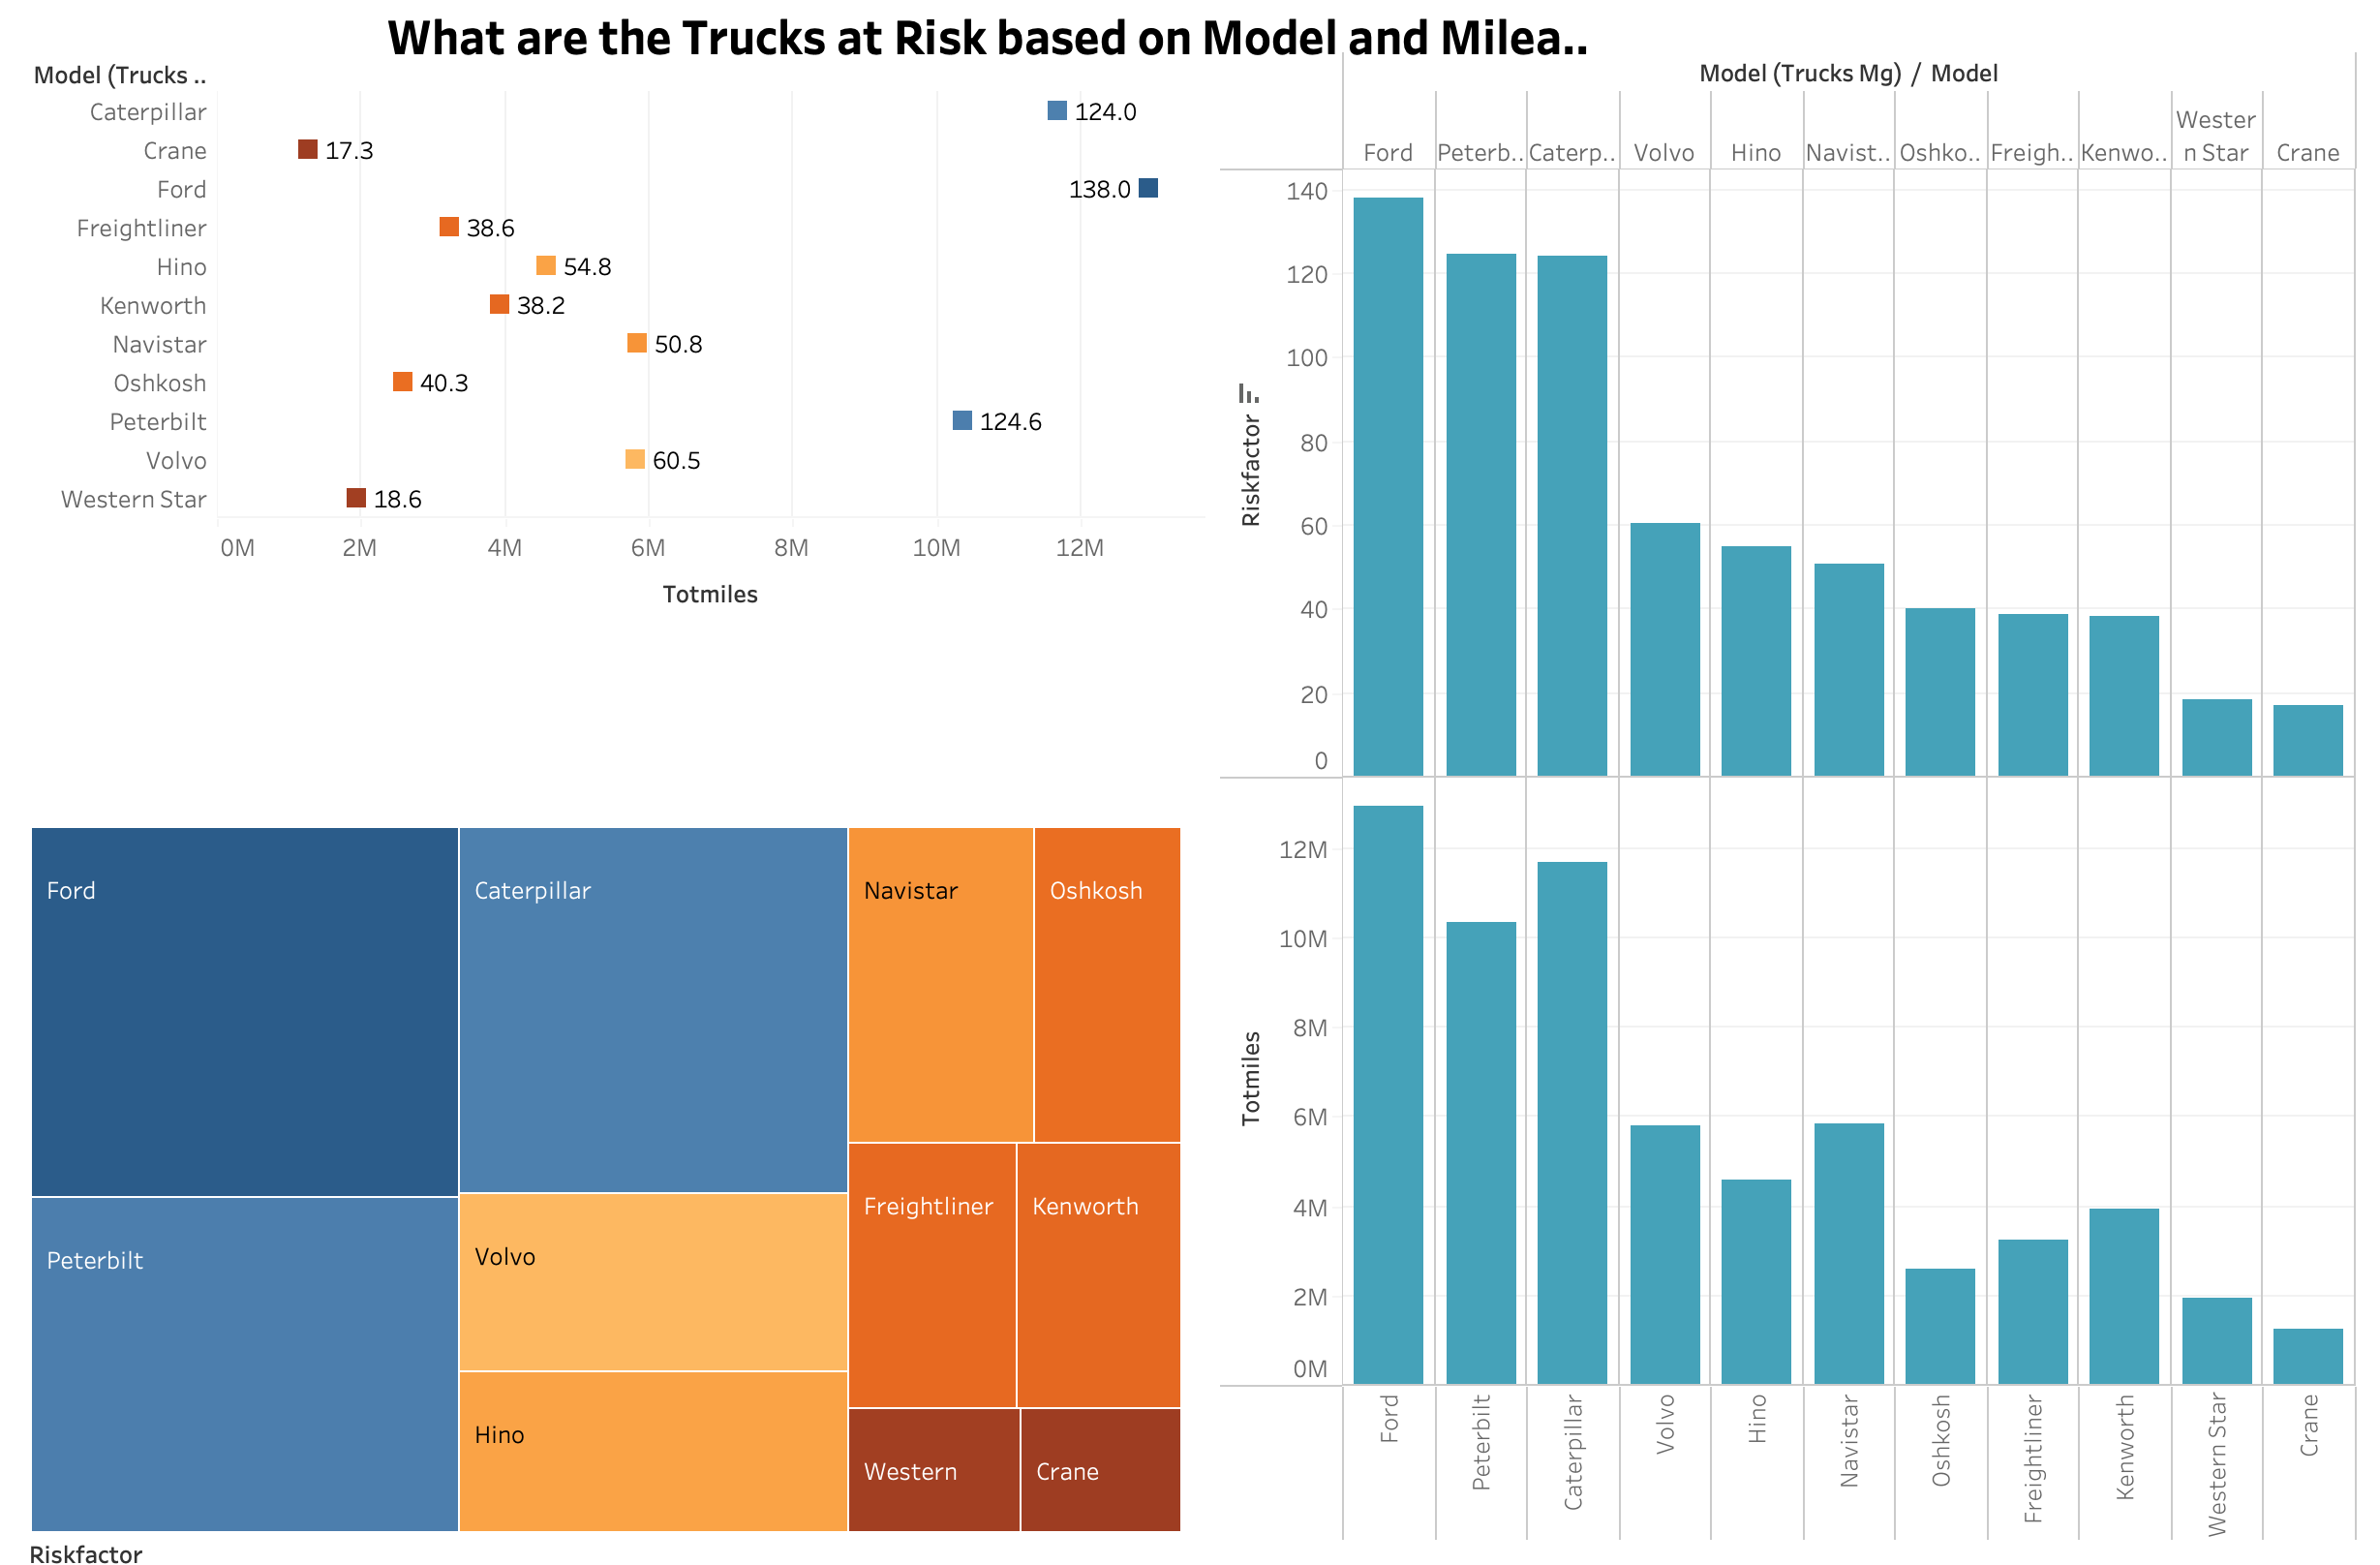

This screenshot's page, from the dashboard's own definition file:
{"tool":"tableau","page":{"name":"Dashboard 2","canvas":[1000,1000],"units":"permille","ordinal":1},"visuals":[{"type":"worksheet","title":"Trucks at risk based on model and miles travelled ","mark":"Square","rows":["model (trucks_mg)"],"cols":["totmiles"],"box":[4.8,9.4,495.1,490.6]},{"type":"worksheet","title":"Trucks at risk based on event parameters","mark":"Automatic","rows":["event","riskfactor"],"cols":["truckid (trucks_mg)"],"box":[500,9.4,495.2,490.6]},{"type":"worksheet","title":"Trucks at risk based on model","mark":"Automatic","box":[4.8,500,436,490.6]},{"type":"worksheet","title":"Trucks riskfactor based on model","mark":"Automatic","rows":["riskfactor","totmiles"],"cols":["model (trucks_mg)","model"],"box":[440.9,500,271.5,490.6]},{"type":"worksheet","title":"Total miles travelled by each truck","mark":"Automatic","rows":["truckid (truck_mileage)","model (trucks_mg)"],"cols":["totmiles"],"box":[712.4,500,282.8,490.6]}]}

Visuals, with their boxes on the dashboard's canvas, which has no fixed pixel size, in thousandths of its width and height (x1, y1, x2, y2). These are canvas units, not pixel positions in the 2380x1565 screenshot, which may show the page scaled, cropped or inside an application window:
"Trucks at risk based on model and miles travelled " worksheet (Square marks): [x1=5, y1=9, x2=500, y2=500]
"Trucks at risk based on event parameters" worksheet: [x1=500, y1=9, x2=995, y2=500]
"Trucks at risk based on model" worksheet: [x1=5, y1=500, x2=441, y2=991]
"Trucks riskfactor based on model" worksheet: [x1=441, y1=500, x2=712, y2=991]
"Total miles travelled by each truck" worksheet: [x1=712, y1=500, x2=995, y2=991]
